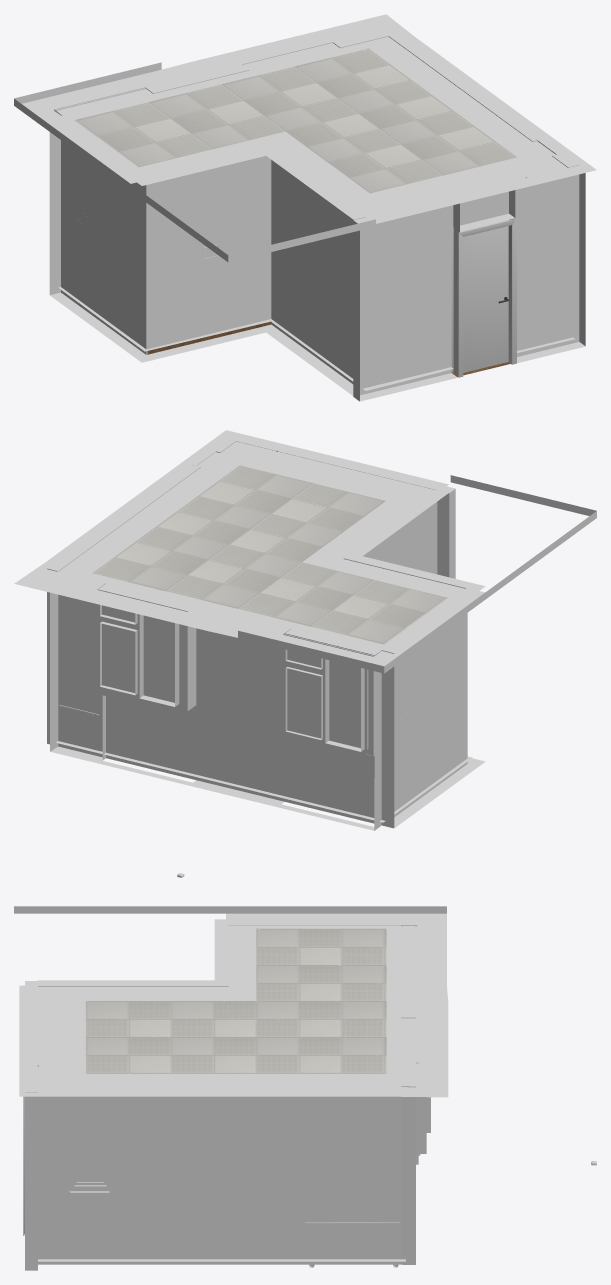
The model's file is Slab Arena model.fbx.
3 renders of one model, top to bottom at view 1: azimuth 30°, elevation 25°; view 2: azimuth 150°, elevation 25°; view 3: azimuth 270°, elevation 25°, orthographic.
Visible parts, largest first — view 1: Ceiling, walls, Cube.002, Door, Frame 2, floor.001, floor; view 2: walls, Ceiling, Window Glass, window 3, Cube.002, floor.001; view 3: walls, Ceiling, Cube.002, Window Glass, Window 1, floor.001, window 3.
Part boxes in pixels (box(x1,y1,x2,y2)): Ceiling: box(14, 14, 596, 262); walls: box(49, 30, 579, 395); Cube.002: box(353, 165, 585, 401); Door: box(463, 226, 508, 372); Frame 2: box(451, 218, 516, 377); floor.001: box(58, 287, 575, 390); floor: box(147, 321, 510, 376); walls: box(47, 438, 485, 830); Ceiling: box(14, 430, 596, 673); Window Glass: box(95, 603, 366, 759); window 3: box(97, 588, 374, 755); Cube.002: box(226, 434, 455, 578); floor.001: box(56, 741, 472, 822); walls: box(38, 919, 418, 1264); Ceiling: box(14, 906, 448, 1097); Cube.002: box(25, 981, 37, 1270); Window Glass: box(76, 1099, 104, 1181); Window 1: box(69, 1096, 111, 1191); floor.001: box(38, 1259, 405, 1261); window 3: box(416, 1017, 430, 1164).
Bounding box in the file's own units: 618 × 302 × 829.
